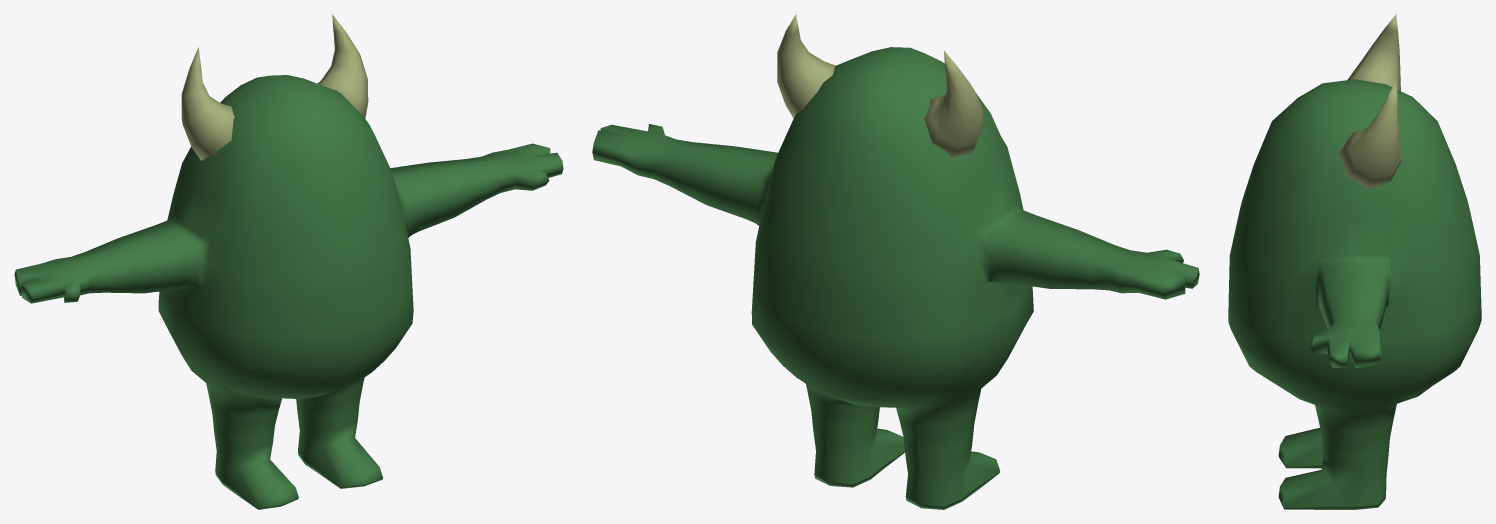
The model's file is MonsterModel1.fbx.
3 views of the same model, side by side, from view 1: azimuth 30°, elevation 25°; view 2: azimuth 150°, elevation 25°; view 3: azimuth 270°, elevation 25° (orthographic). The views are drawn at different scales.
Parts seen in each view (by area): view 1: body, horn_R, hornL; view 2: body, horn_R, hornL; view 3: body, hornL, horn_R.
Boxes of the visible parts, x1,y1,x2,y2 form: body: (14,75,563,509); horn_R: (181,47,234,160); hornL: (317,14,368,118); body: (592,47,1199,509); horn_R: (924,50,983,157); hornL: (777,14,835,118); body: (1228,79,1481,509); hornL: (1338,80,1401,188); horn_R: (1347,14,1400,91).
Bounding box in the file's own units: 26.99 × 20.45 × 10.89.
